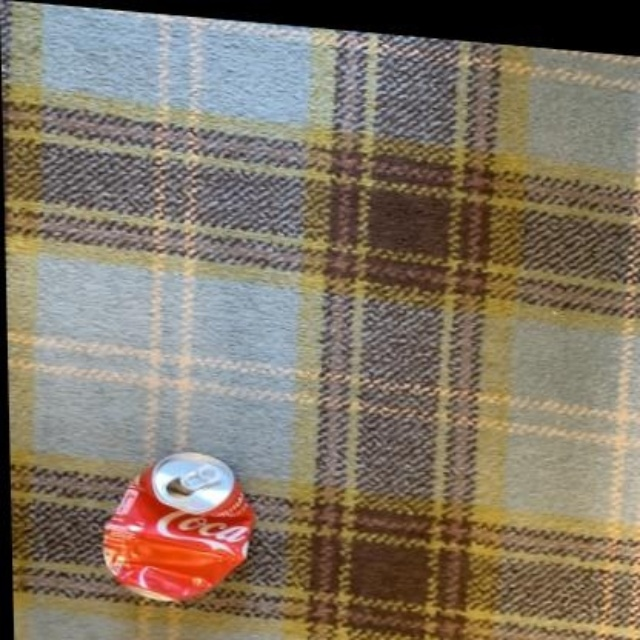trash: (103, 452, 252, 600)
